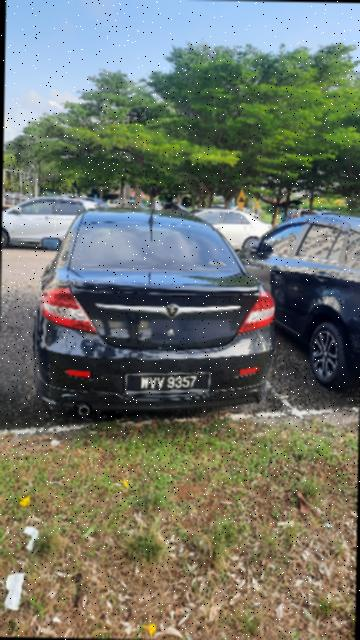License_Plate: (122, 371, 217, 399)
car: (35, 206, 279, 422), (244, 204, 360, 390), (5, 190, 113, 250)
